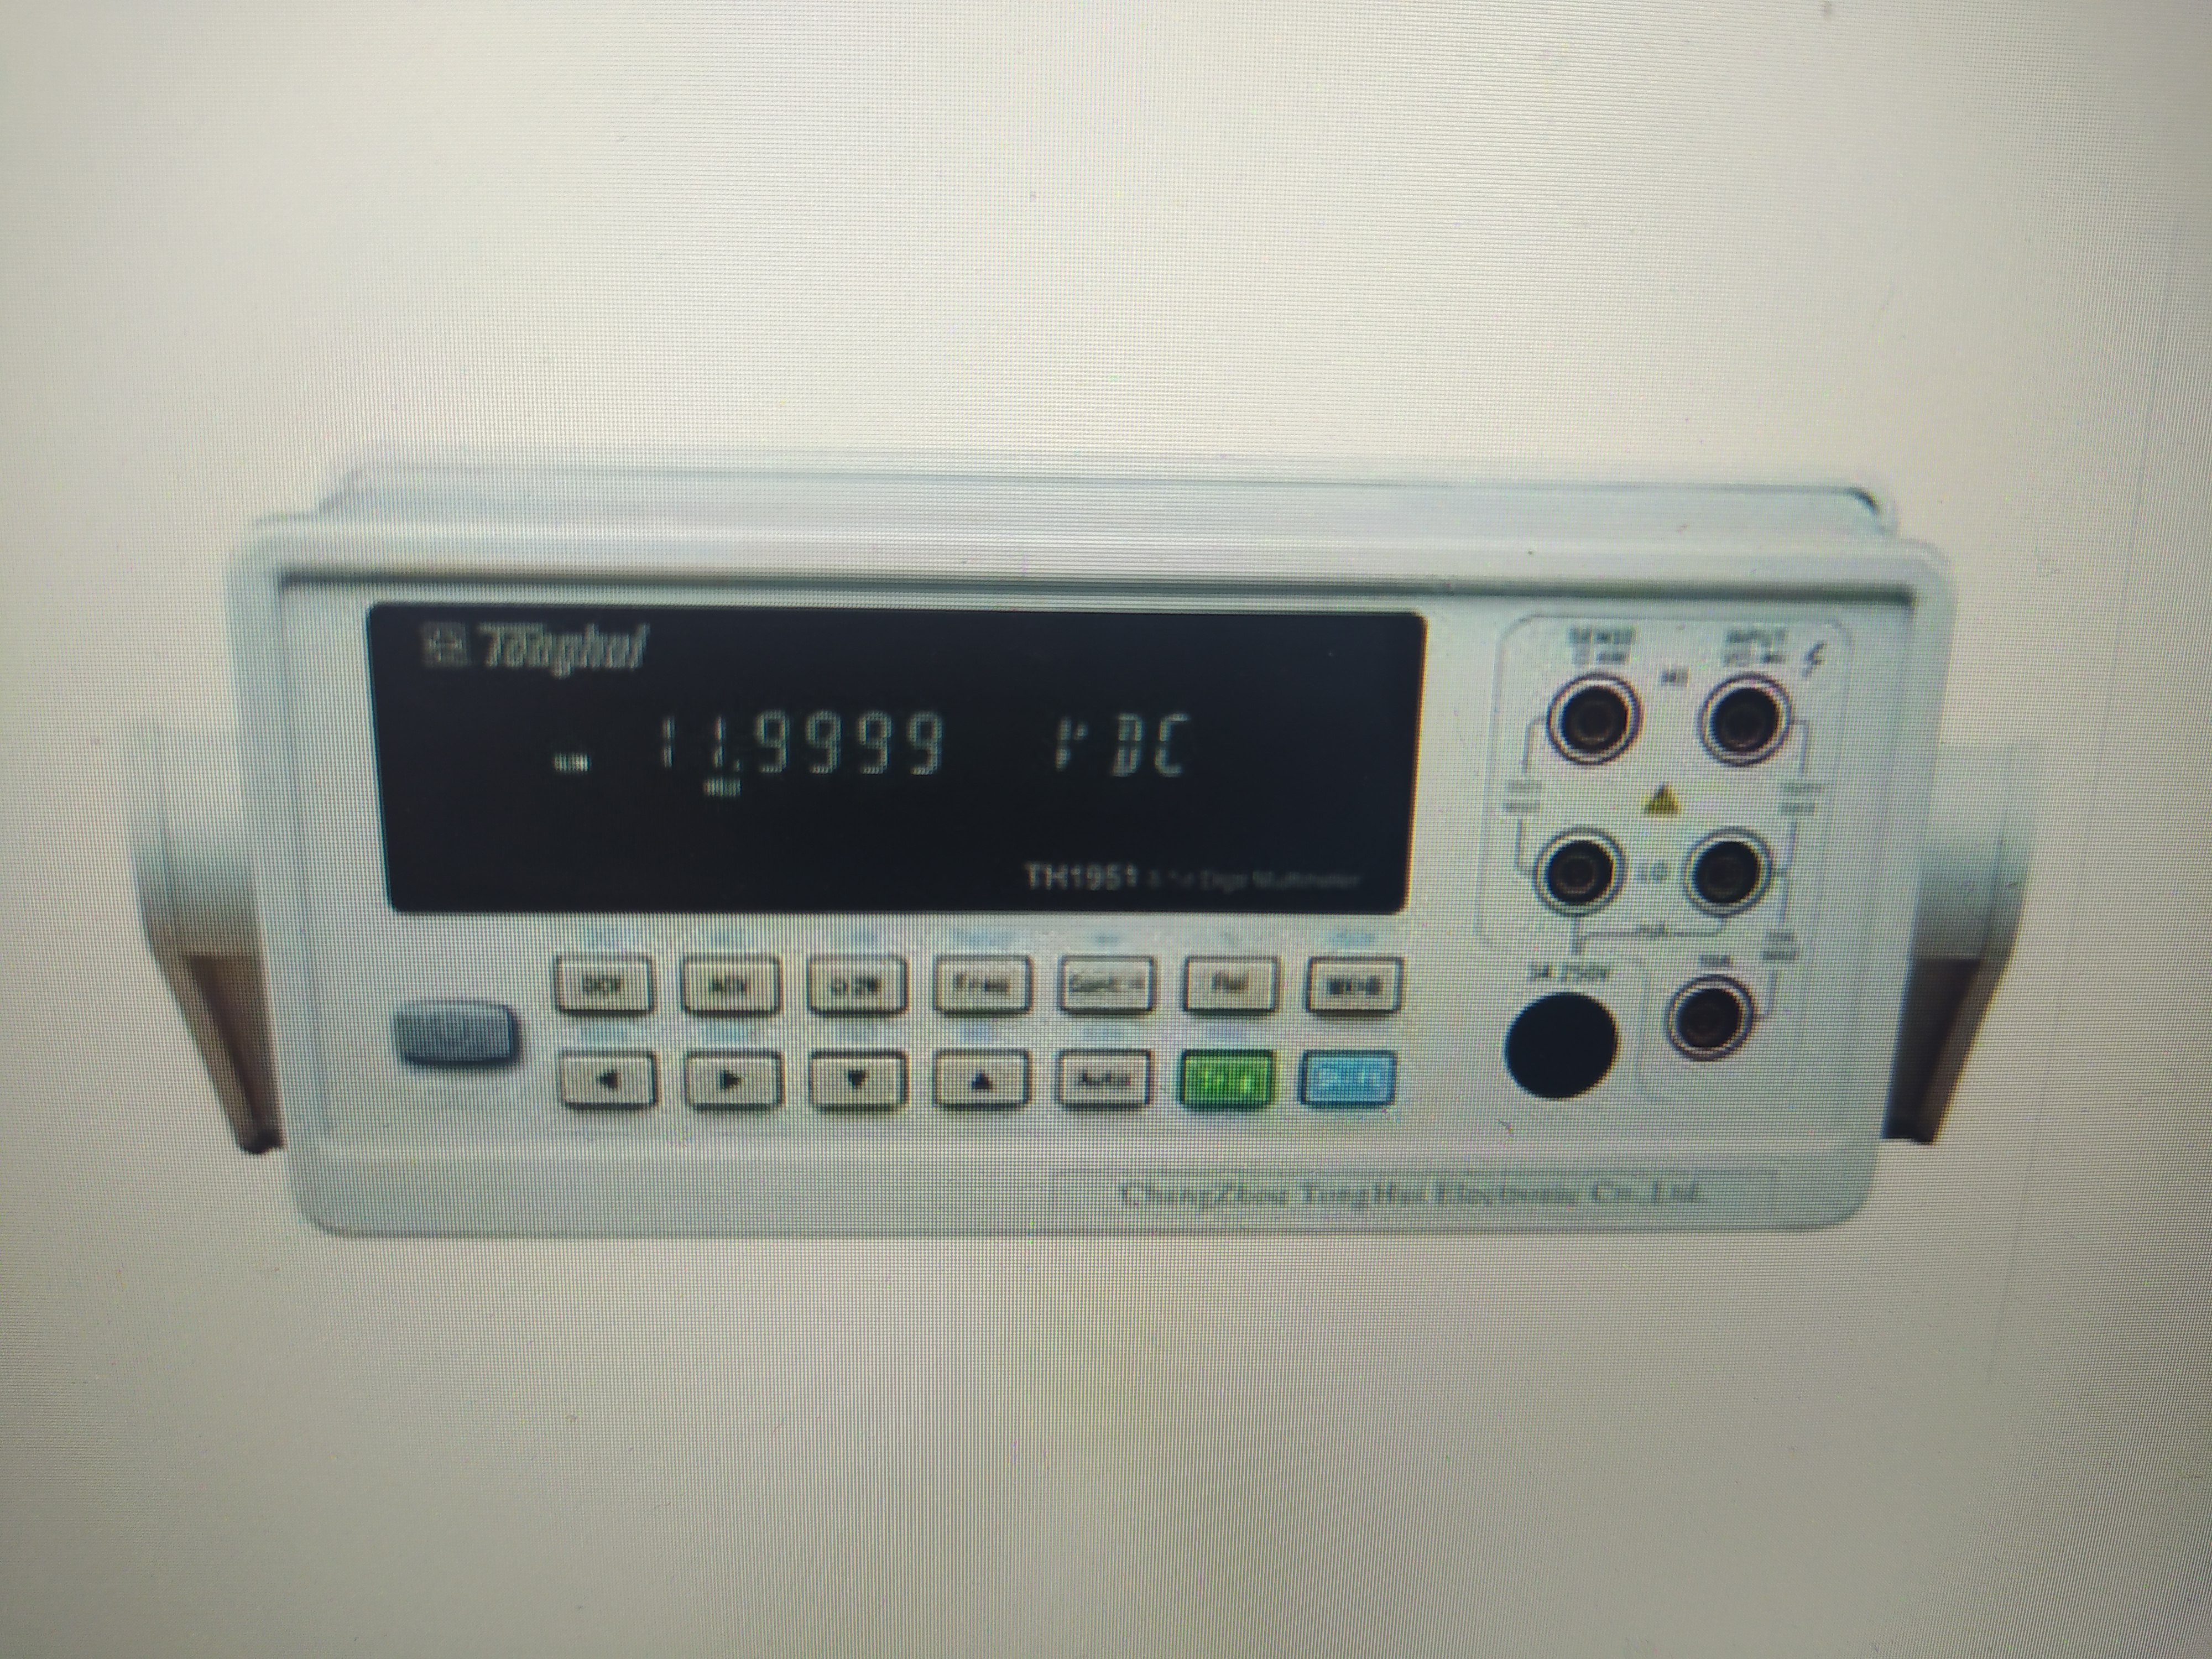.: (732, 709, 749, 774)
1: (655, 709, 686, 775), (709, 711, 733, 774)
9: (799, 711, 848, 784), (751, 706, 794, 782), (902, 713, 949, 781), (855, 711, 897, 786)
